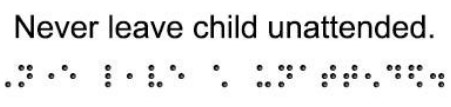Braille: (115, 64, 133, 89), (37, 65, 55, 89), (363, 64, 381, 88), (408, 64, 424, 90), (321, 64, 337, 89), (386, 63, 402, 88), (60, 65, 77, 88), (94, 65, 111, 88), (299, 64, 315, 88), (213, 64, 228, 89), (17, 65, 33, 88), (169, 65, 185, 88), (256, 65, 272, 88), (430, 63, 444, 89), (343, 64, 358, 88), (148, 65, 163, 88), (278, 65, 293, 88)
